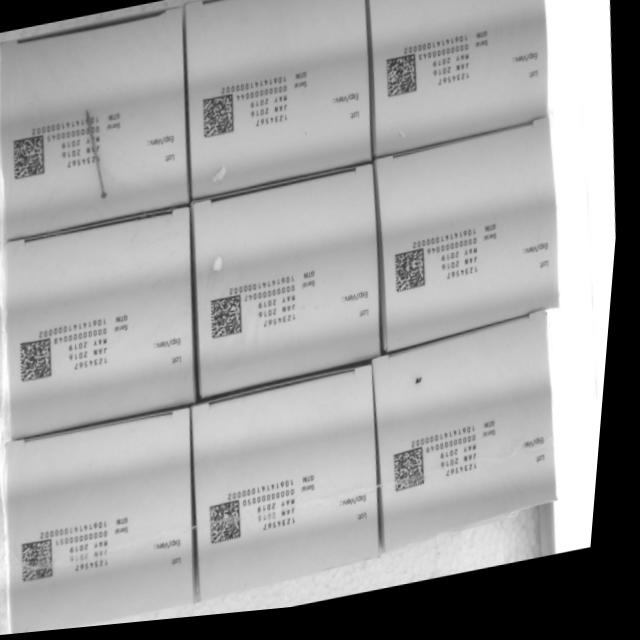datamatrix: (211, 500, 256, 553), (391, 253, 436, 306), (9, 131, 53, 185), (396, 451, 440, 504), (24, 534, 68, 587), (19, 335, 63, 388), (210, 295, 254, 348), (381, 59, 425, 112), (198, 91, 242, 144)
